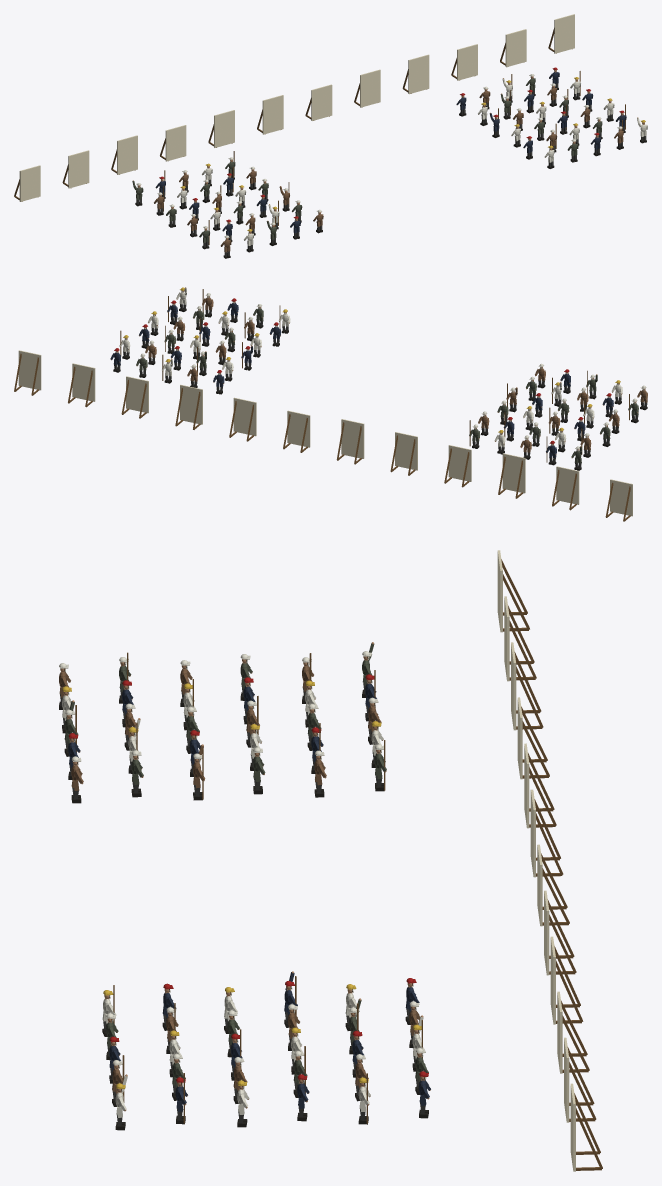
Rendered from KyotoCrowd1969.glb.
3 views of the same model, one above another, from view 1: azimuth 30°, elevation 25°; view 2: azimuth 150°, elevation 25°; view 3: azimuth 270°, elevation 25° (orthographic). The views are drawn at different scales.
Visible parts, largest first — view 1: paper@court, white@court, jacket@court, navy@court, trousers@court, brown@court, wood@court, boots@court, skin@court; view 2: paper@court, wood@court, white@court, trousers@court, jacket@court, brown@court, navy@court, boots@court, skin@court; view 3: wood@court, paper@court, white@court, jacket@court, brown@court, navy@court, boots@court, trousers@court, skin@court.
Part boxes in pixels (box(x1,y1,x2,y2)): paper@court: box(19, 14, 574, 201); white@court: box(136, 74, 647, 245); jacket@court: box(132, 78, 602, 242); navy@court: box(155, 72, 626, 236); trousers@court: box(136, 83, 646, 256); brown@court: box(154, 88, 623, 252); wood@court: box(14, 28, 625, 244); boots@court: box(135, 87, 646, 258); skin@court: box(133, 70, 644, 245); paper@court: box(18, 350, 632, 516); wood@court: box(14, 289, 630, 521); white@court: box(115, 288, 646, 451); trousers@court: box(114, 304, 647, 467); jacket@court: box(136, 308, 638, 463); brown@court: box(145, 297, 647, 452); navy@court: box(110, 303, 613, 457); boots@court: box(113, 290, 647, 470); skin@court: box(110, 287, 647, 458); wood@court: box(75, 559, 602, 1170); paper@court: box(497, 550, 575, 1171); white@court: box(59, 651, 426, 1117); jacket@court: box(64, 643, 428, 1087); brown@court: box(59, 666, 420, 1093); navy@court: box(68, 683, 430, 1111); boots@court: box(59, 656, 428, 1130); trousers@court: box(60, 682, 425, 1126); skin@court: box(60, 642, 430, 1111).
Bounding box in the file's own units: 47.88 × 2.73 × 19.67.
Materials: 11 (11 with a texture image).
